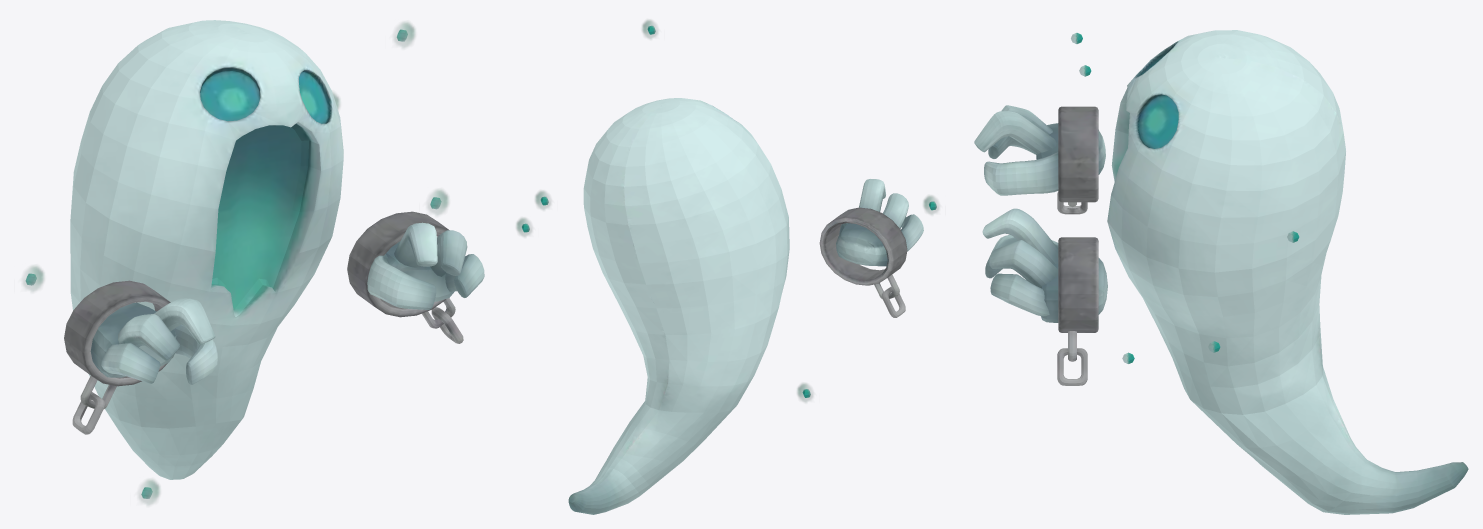
The model's file is flink.glb.
3 renders of one model, left to right at view 1: azimuth 30°, elevation 25°; view 2: azimuth 150°, elevation 25°; view 3: azimuth 270°, elevation 25°, orthographic. The views are drawn at different scales.
Visible parts, largest first — view 1: polySurface2_lambert1_0; view 2: polySurface2_lambert1_0; view 3: polySurface2_lambert1_0.
Part boxes in pixels (x1,y1,x2,y2): polySurface2_lambert1_0: [22, 20, 484, 505]; polySurface2_lambert1_0: [516, 19, 939, 514]; polySurface2_lambert1_0: [974, 30, 1468, 514].
Bounding box in the file's own units: 222 × 221 × 197.
Materials: 1 (1 with a texture image).
